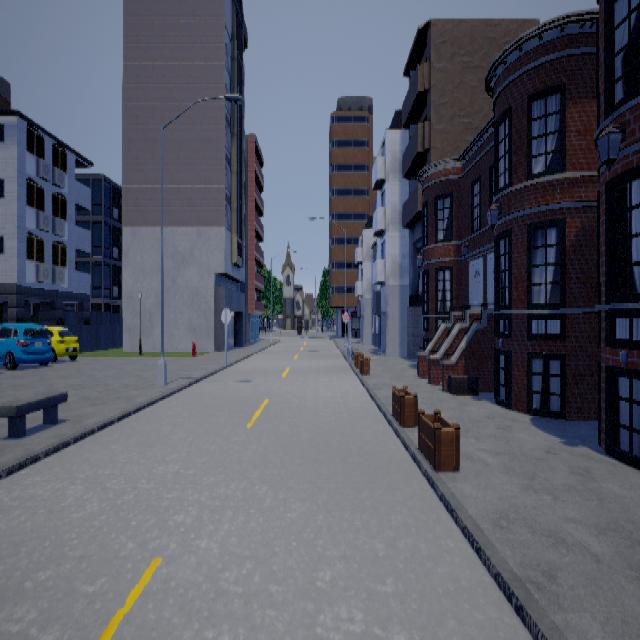traffic_sign: (341, 310, 349, 322)
vehicle: (0, 322, 50, 371), (36, 318, 81, 364)
